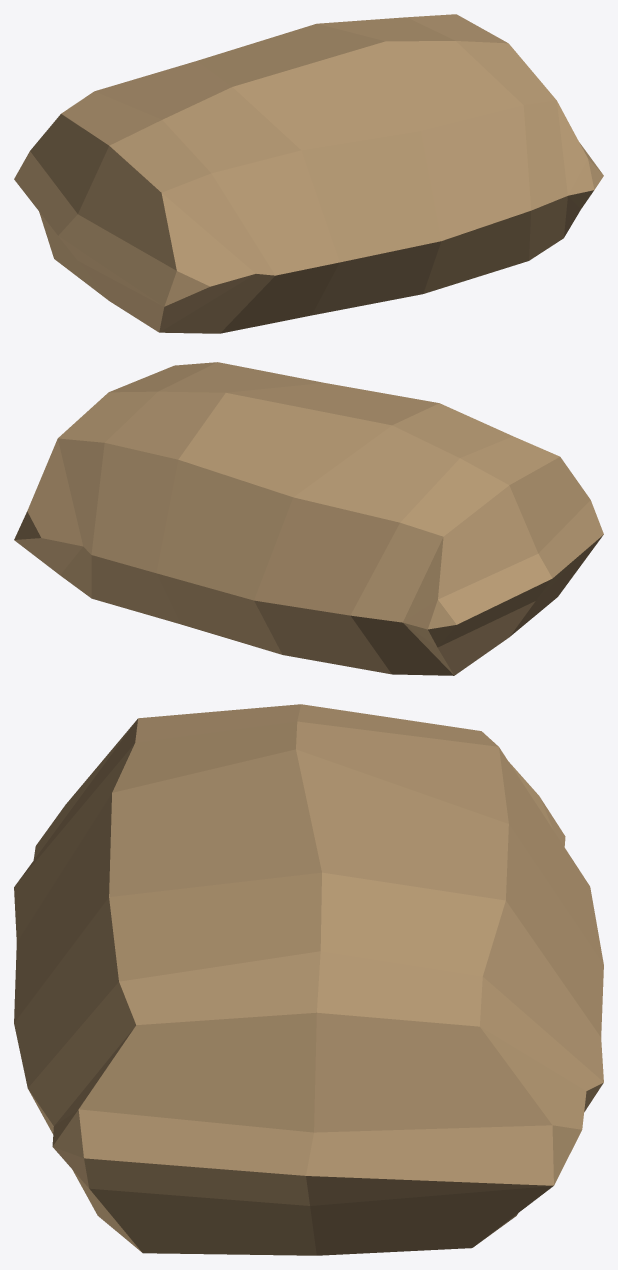
The model's file is castle_sacks.gltf.
3 renders of one model, top to bottom at view 1: azimuth 30°, elevation 25°; view 2: azimuth 150°, elevation 25°; view 3: azimuth 270°, elevation 25°, orthographic. The views are drawn at different scales.
Parts seen in each view (by area): view 1: castle_sacks; view 2: castle_sacks; view 3: castle_sacks.
Boxes of the visible parts, left/top/right/bottom form: castle_sacks: left=14, top=14, right=603, bottom=333; castle_sacks: left=14, top=362, right=603, bottom=675; castle_sacks: left=14, top=704, right=603, bottom=1255.
Bounding box in the file's own units: 0.6212 × 0.2315 × 0.4063.
Materials: 1 (1 with a texture image).
